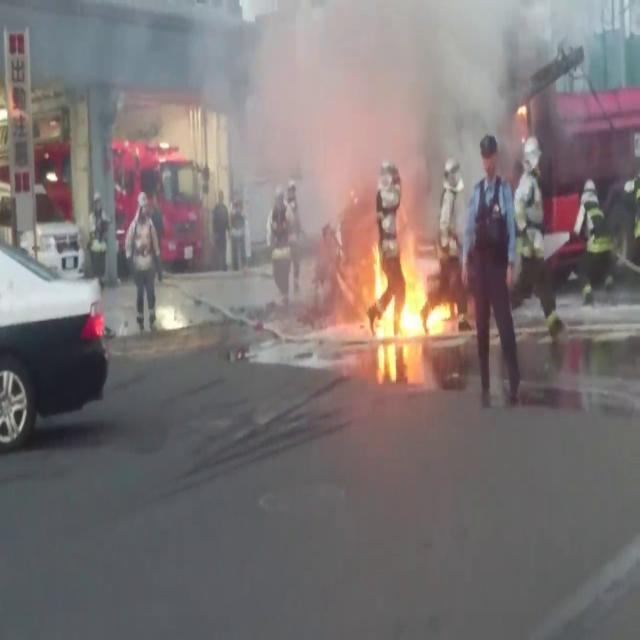Fire: (370, 232, 460, 338)
Smoke: (185, 0, 605, 231), (0, 0, 185, 173), (241, 233, 370, 344)
